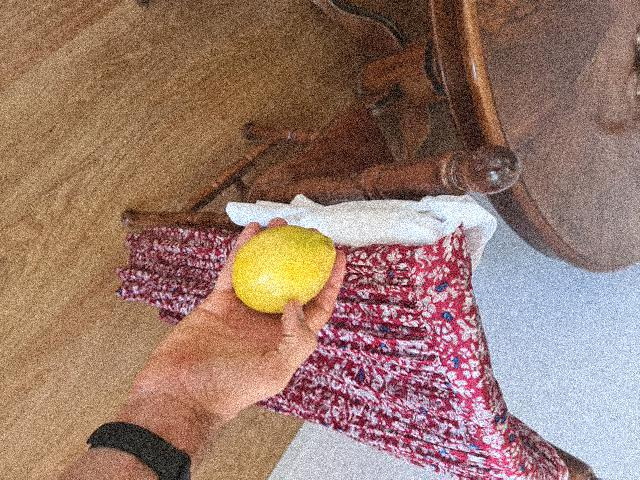lemon: (230, 224, 335, 313)
